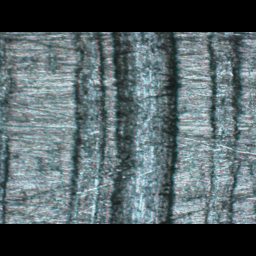d: (68, 32, 181, 223), (202, 32, 251, 223)
